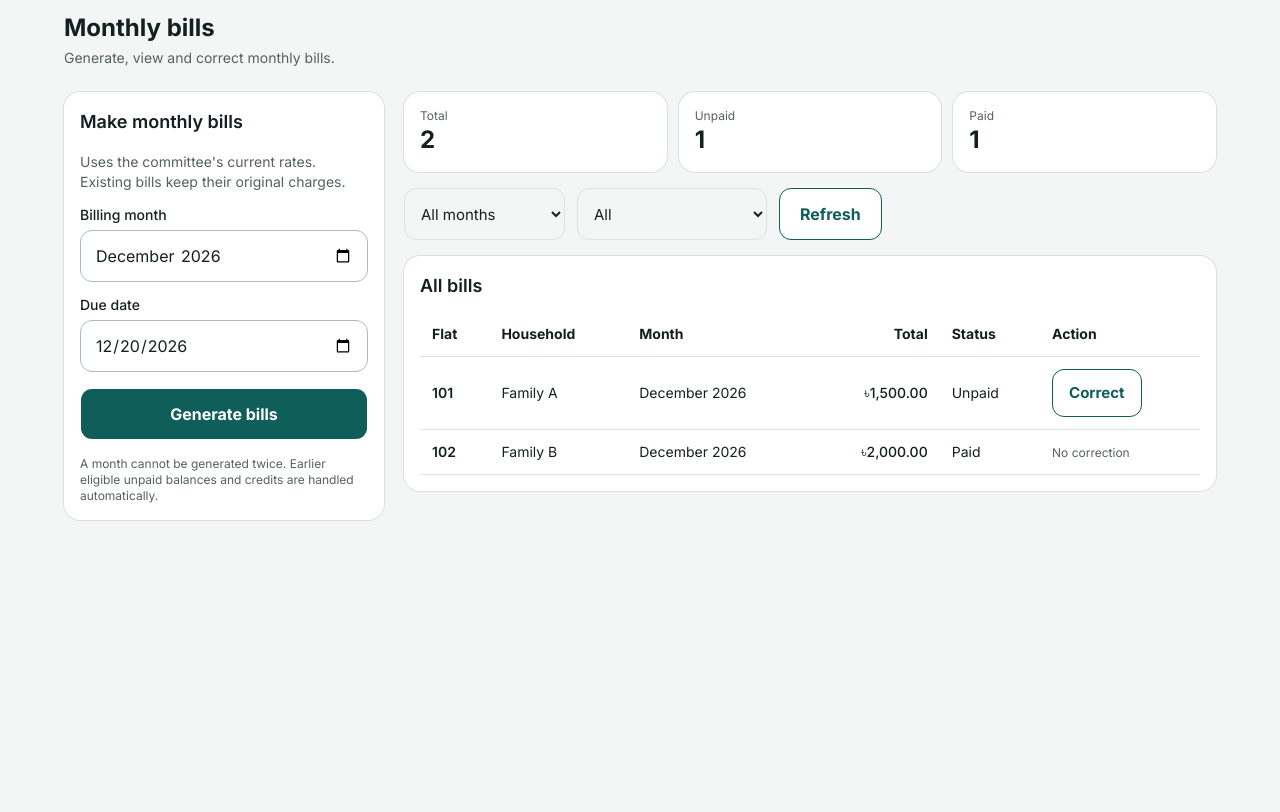
Scenario: BB-0509 Manager Bills Page › generates monthly bills using the API
Expected: the text "Family A" is shown, [489, 356, 627, 430]
Click the button "Generate bills" at (224, 414), box [80, 388, 368, 440]
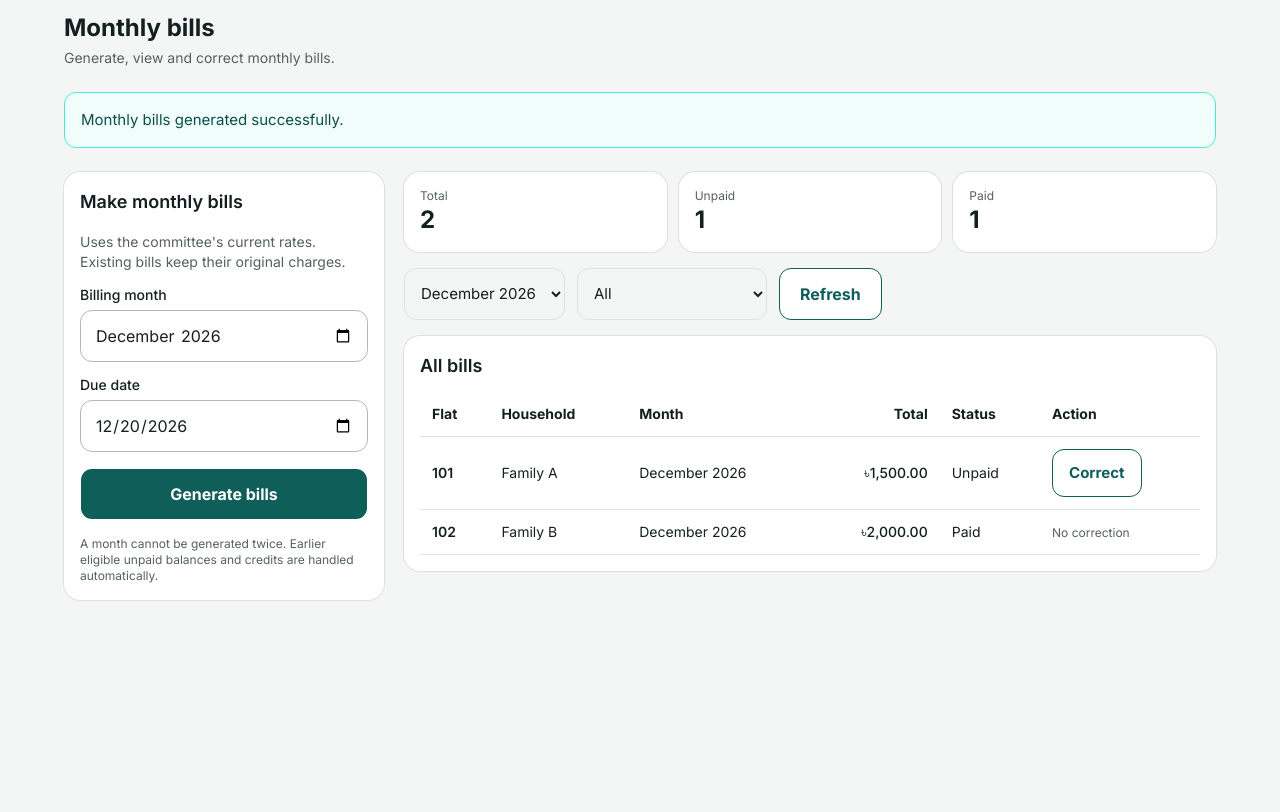
Now the text "Monthly bills generated successfully." is shown, box [64, 92, 1216, 148]
